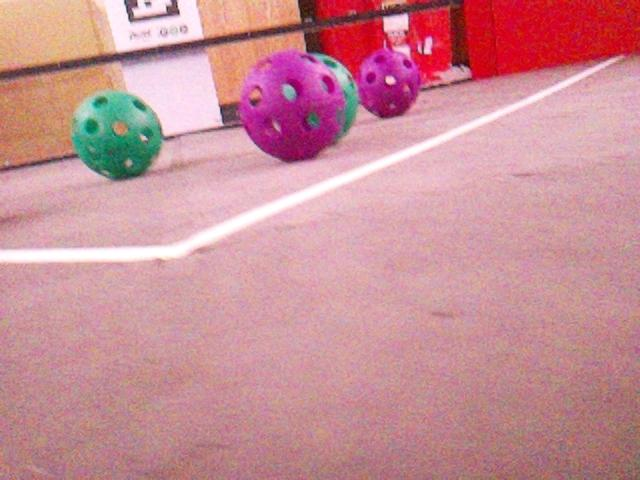Green: (68, 90, 162, 178), (280, 54, 356, 143)
Purple: (237, 49, 349, 159), (356, 51, 421, 117)
